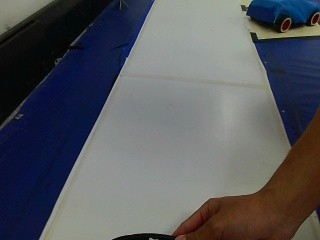car: (242, 0, 318, 32)
